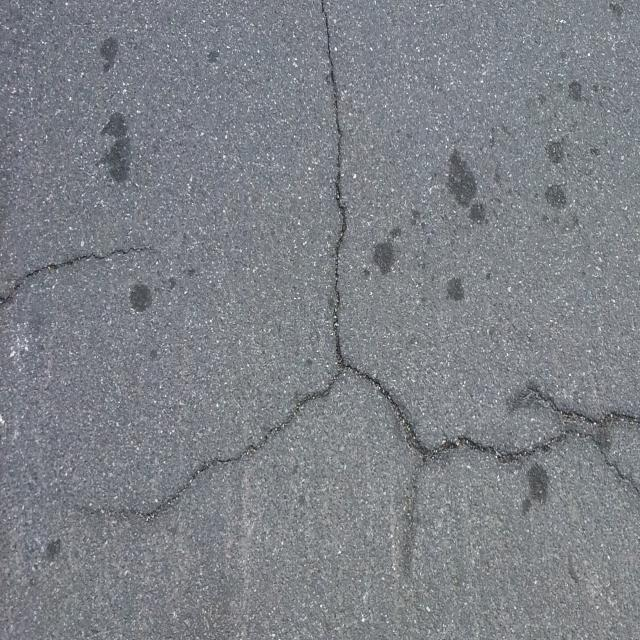Crack: (80, 0, 640, 521), (0, 247, 151, 307)
